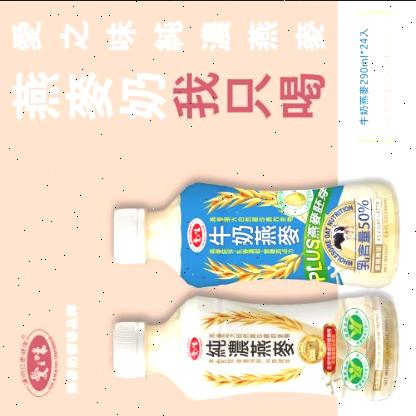Plastic Bottle: (115, 182, 398, 287), (114, 296, 397, 400)
